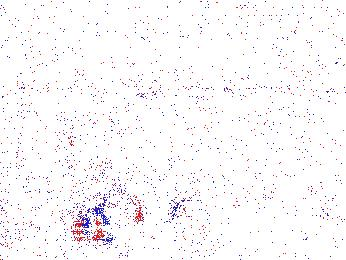flame jellyfish: (66, 113, 116, 178), (75, 190, 142, 232), (169, 199, 218, 251)
